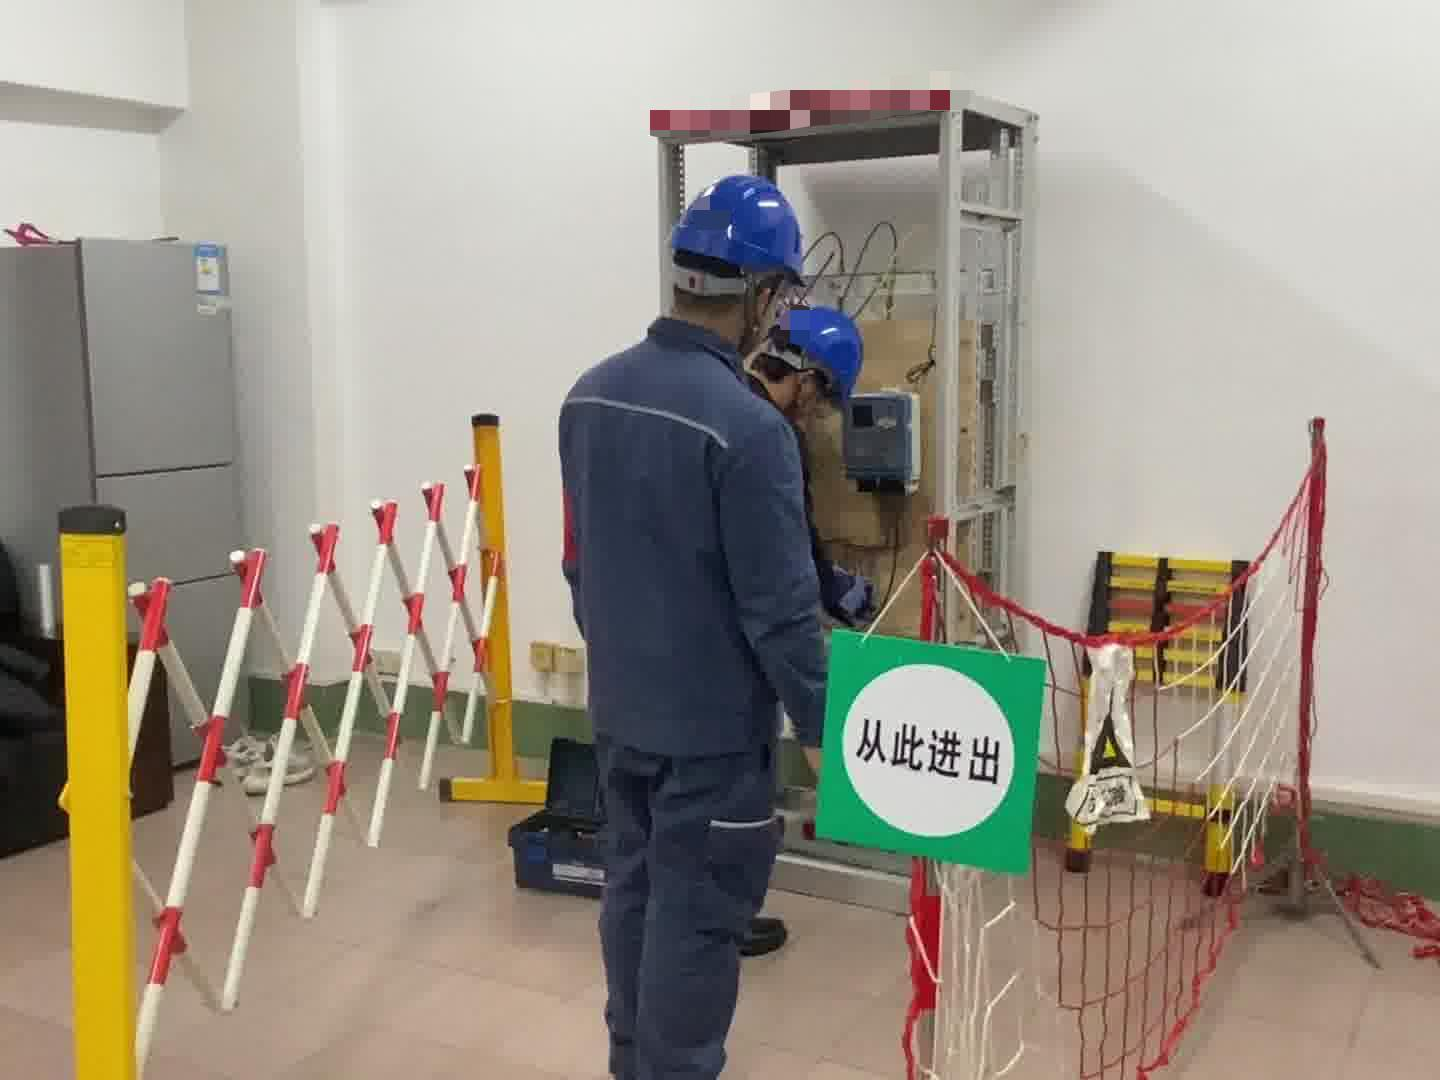halt: (667, 174, 810, 330), (756, 306, 869, 421)
inear: (736, 279, 780, 345), (783, 366, 825, 420)
